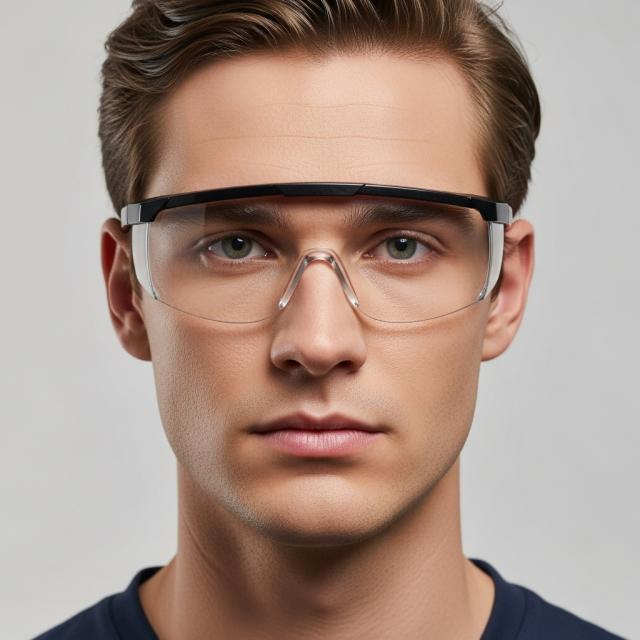oculos-epi: (121, 182, 511, 323)
